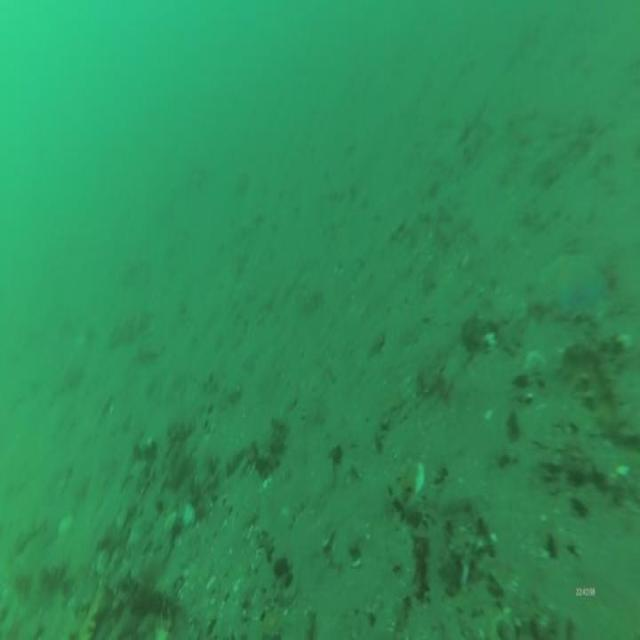holothurian: (73, 573, 111, 640)
starfish: (537, 247, 613, 319)
